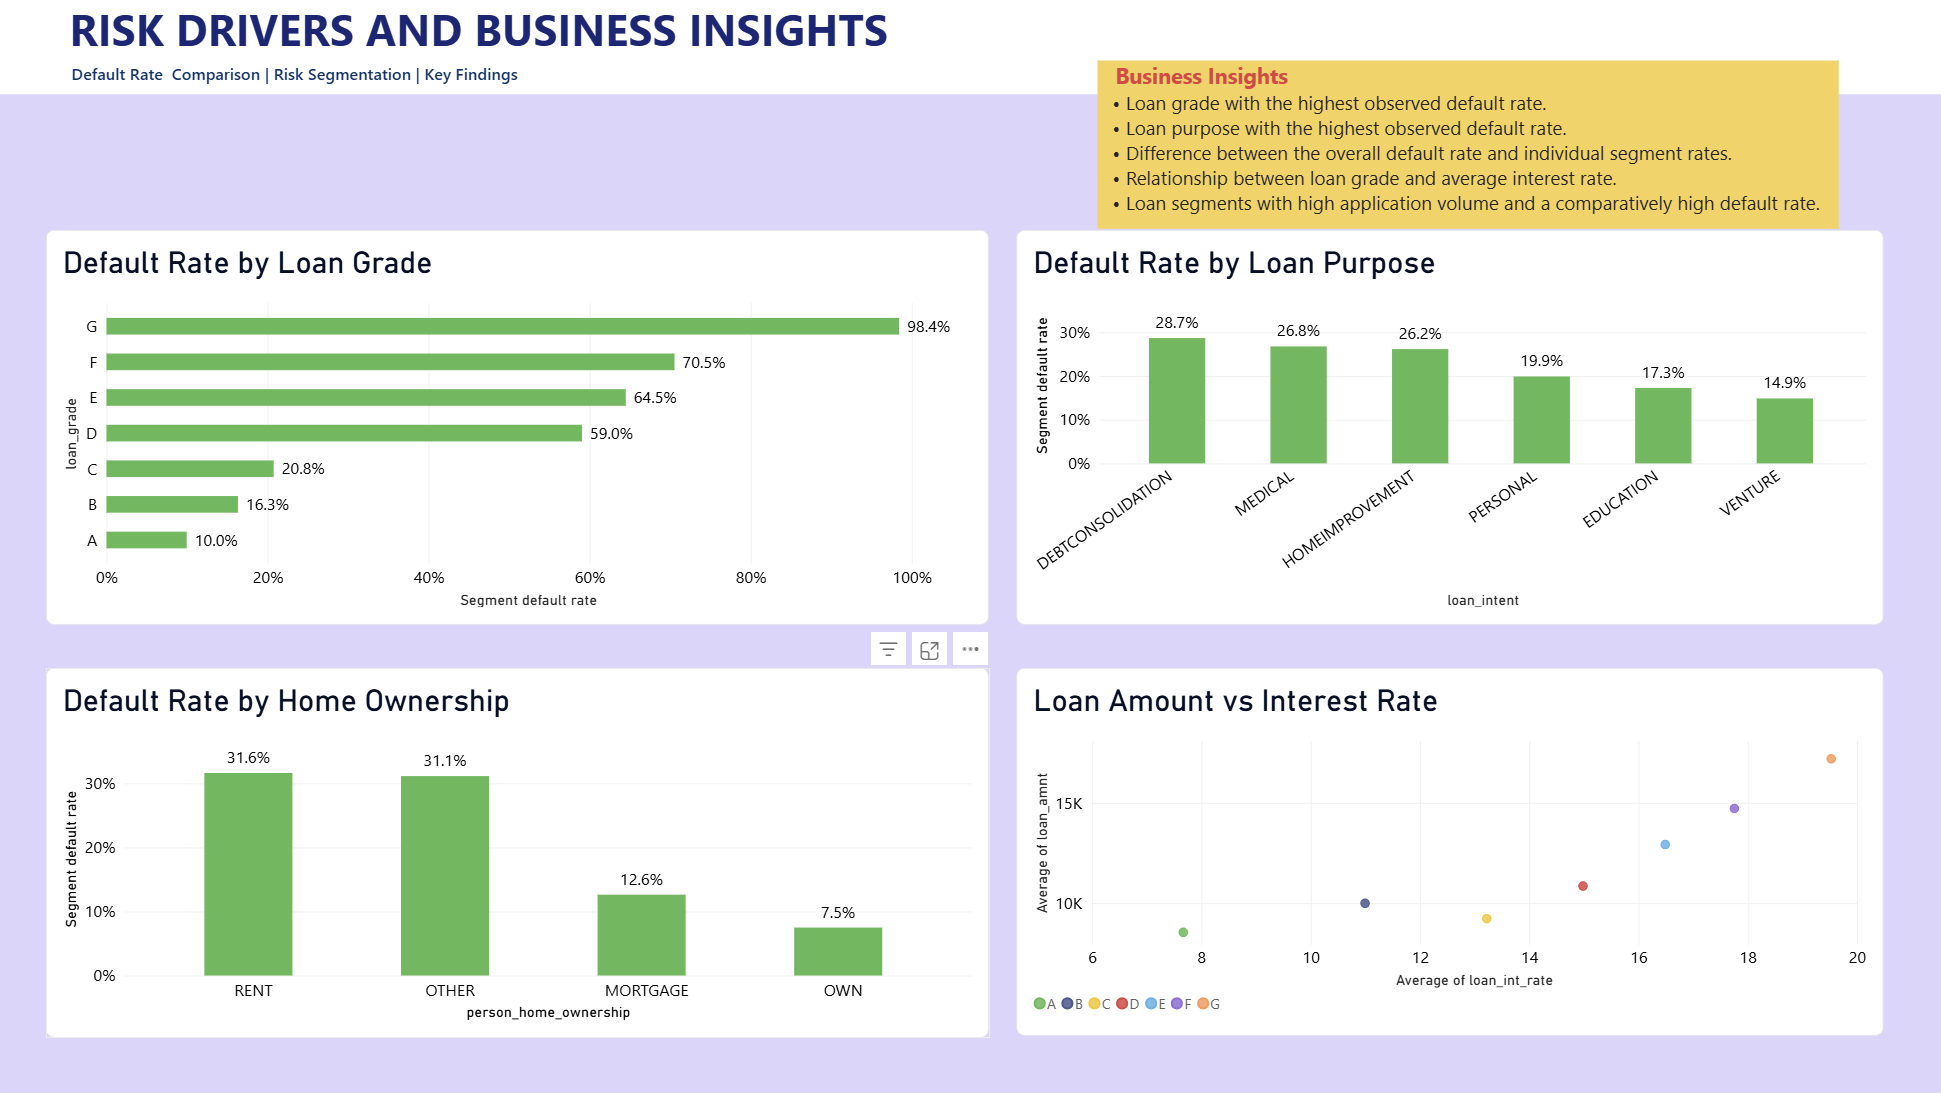

Layout of this report page (visuals, bound fields, positions):
{"tool":"powerbi","page":{"name":" business","canvas":[1920,1080],"ordinal":2},"visuals":[{"type":"scatterChart","title":"Loan Amount vs Interest Rate","fields":{"Series":["loan_risk_portfolio credit_risk_dataset.loan_grade"],"X":["Sum(loan_risk_portfolio credit_risk_dataset.loan_int_rate)"],"Y":["Sum(loan_risk_portfolio credit_risk_dataset.loan_amnt)"]},"box":[1004.6,660.8,855.6,362.9],"z":0},{"type":"columnChart","title":"Default Rate by Loan Purpose","fields":{"Category":["loan_risk_portfolio credit_risk_dataset.loan_intent"],"Y":["loan_risk_portfolio credit_risk_dataset.Segment default rate"]},"box":[1004.6,227.3,855.6,389.6],"z":1},{"type":"clusteredColumnChart","title":"Default Rate by Home Ownership","fields":{"Series":["loan_risk_portfolio credit_risk_dataset.person_home_ownership"],"Y":["loan_risk_portfolio credit_risk_dataset.Segment default rate"]},"box":[47.7,660.8,930.1,364.8],"z":2},{"type":"clusteredBarChart","title":"Default Rate by Loan Grade","fields":{"Category":["loan_risk_portfolio credit_risk_dataset.loan_grade"],"Y":["loan_risk_portfolio credit_risk_dataset.Segment default rate"]},"box":[47.7,227.3,930.1,389.6],"z":3},{"type":"textbox","box":[0,0,1920,94],"z":4},{"type":"textbox","box":[72,62,498,52],"z":5},{"type":"textbox","box":[1084.8,61.1,731.5,166.2],"z":6}]}

Visuals, with their boxes in screenshot pixels (x1, y1, x2, y2), scaled from the page's 1920x1080 canvas onto the 1941x1093 screenshot:
"Loan Amount vs Interest Rate" scatterChart: (1016,669,1881,1036)
"Default Rate by Loan Purpose" columnChart: (1016,230,1881,624)
"Default Rate by Home Ownership" clusteredColumnChart: (48,669,988,1038)
"Default Rate by Loan Grade" clusteredBarChart: (48,230,988,624)
textbox: (0,0,1940,95)
textbox: (73,63,576,115)
textbox: (1097,62,1836,230)
